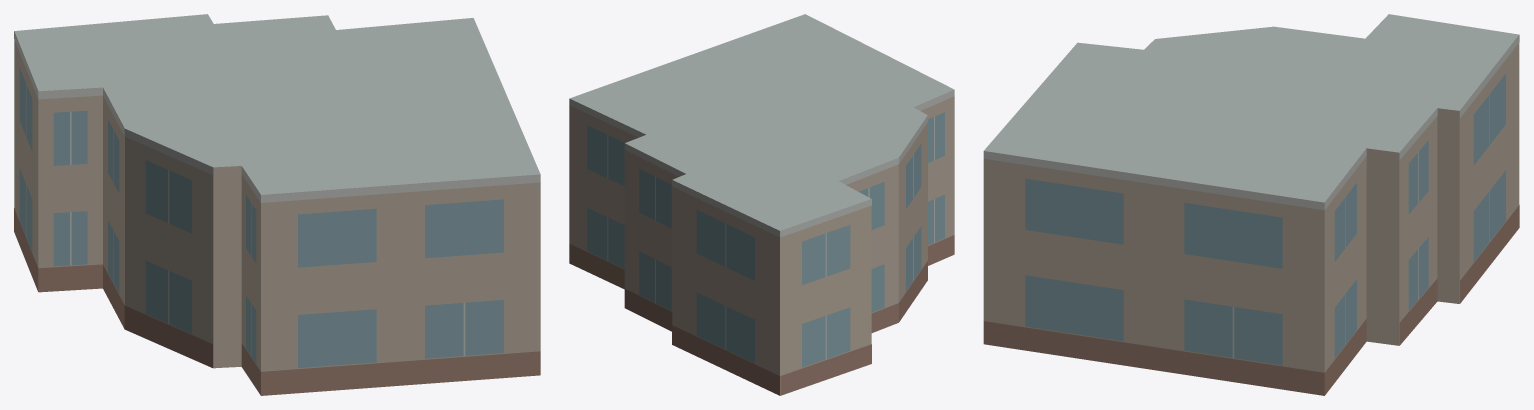
Rendered from survey-upis-32527961.glb.
3 views of the same model, side by side, from view 1: azimuth 30°, elevation 25°; view 2: azimuth 150°, elevation 25°; view 3: azimuth 270°, elevation 25° (orthographic). The views are drawn at different scales.
Visible parts, largest first — view 1: survey-upis-32527961.tmp; view 2: survey-upis-32527961.tmp; view 3: survey-upis-32527961.tmp.
Part boxes in pixels (x1=…): survey-upis-32527961.tmp: x1=14, y1=14, x2=540, y2=395; survey-upis-32527961.tmp: x1=569, y1=14, x2=954, y2=395; survey-upis-32527961.tmp: x1=983, y1=14, x2=1519, y2=395.
Size of the model in its own units: 12.78 by 6.1 by 15.34.
